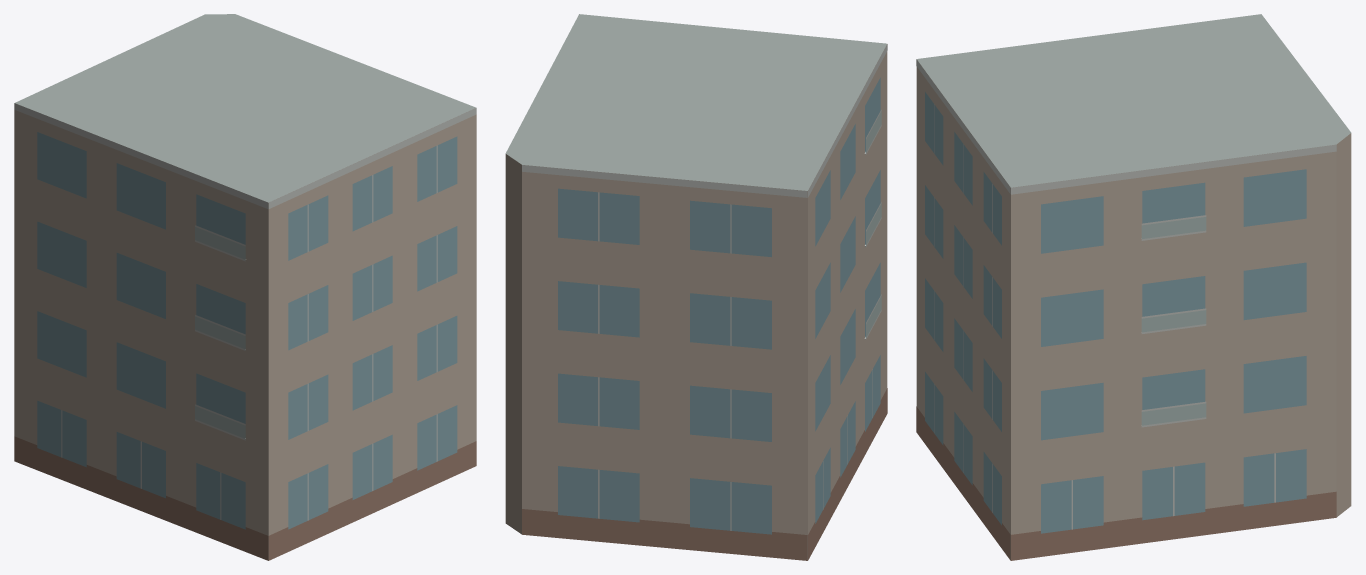
File: survey-upis-32769828.glb
3 views of the same model, side by side, from view 1: azimuth 30°, elevation 25°; view 2: azimuth 150°, elevation 25°; view 3: azimuth 270°, elevation 25° (orthographic). The views are drawn at different scales.
Visible parts, largest first — view 1: survey-upis-32769828.tmp; view 2: survey-upis-32769828.tmp; view 3: survey-upis-32769828.tmp.
Boxes of the visible parts, x1,y1,x2,y2 form: survey-upis-32769828.tmp: [14, 14, 476, 560]; survey-upis-32769828.tmp: [505, 14, 887, 560]; survey-upis-32769828.tmp: [916, 14, 1351, 560].
Size of the model in its own units: 12.99 by 13 by 13.74.
